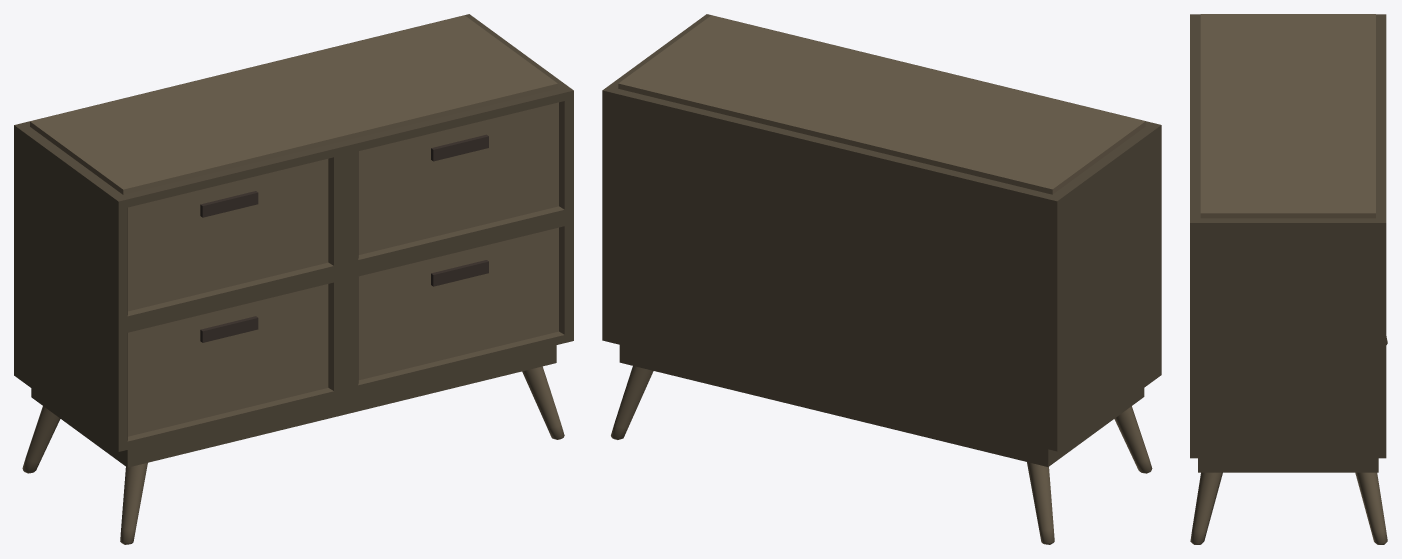
The model's file is Drawer 4.glb.
The picture shows the model from 3 angles, left to right: view 1: azimuth 30°, elevation 25°; view 2: azimuth 150°, elevation 25°; view 3: azimuth 270°, elevation 25°; orthographic projection. The views are drawn at different scales.
Parts seen in each view (by area): view 1: Drawer_4_Cube.095; view 2: Drawer_4_Cube.095; view 3: Drawer_4_Cube.095.
Part boxes in pixels (x1,y1,x2,y2): Drawer_4_Cube.095: [14, 14, 573, 544]; Drawer_4_Cube.095: [602, 14, 1161, 544]; Drawer_4_Cube.095: [1190, 14, 1387, 544].
Size of the model in its own units: 2.79 by 2.07 by 1.12.
